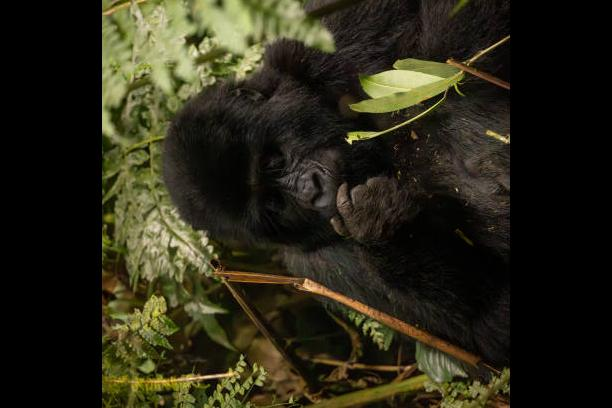goriile_montagne: (163, 0, 510, 341)
